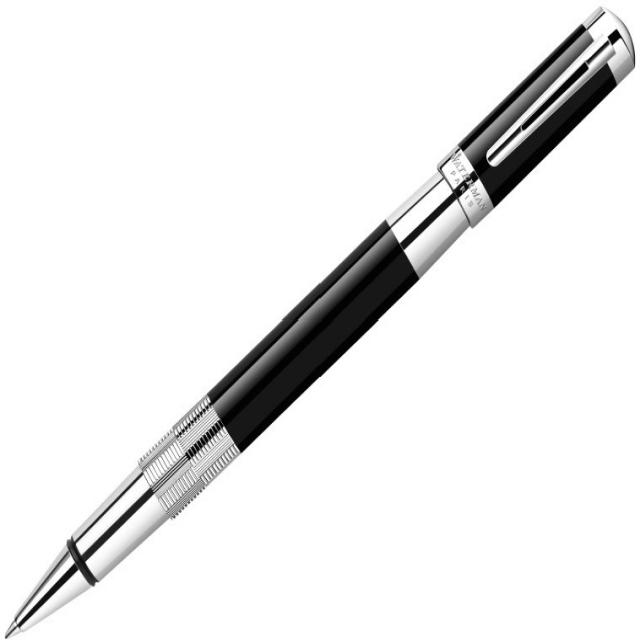pen: (18, 11, 632, 618)
